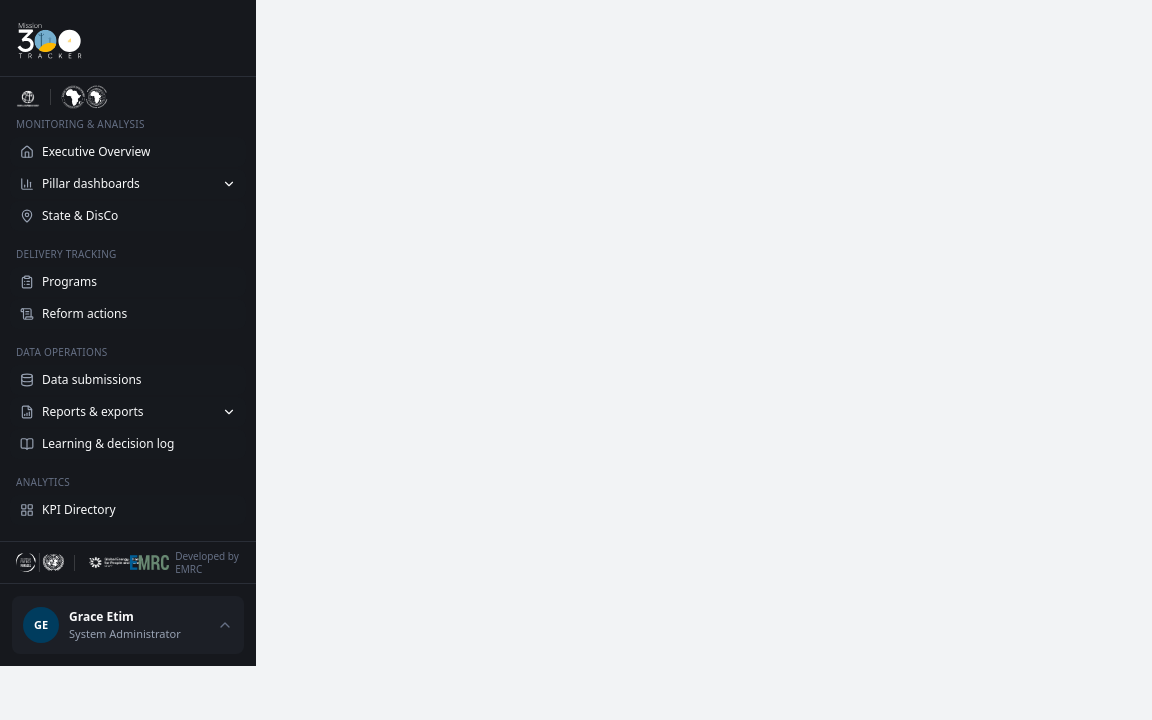
Test case: Sidebar › opens account actions, profile editing and the help centre
Step 1. Click the button with aria-label "Open user menu" → (128, 625), box 12,596 -> 244,654
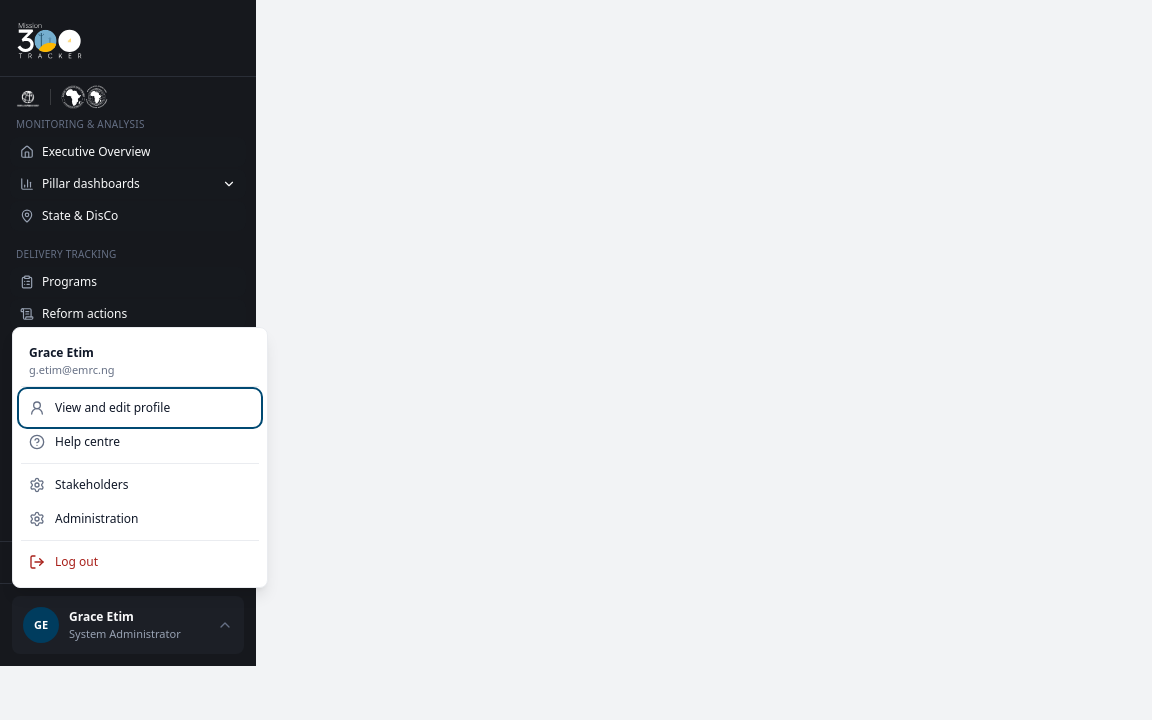
expect the button "View and edit profile" is shown: met
expect the button "Help centre" is shown: met, box 21,425 -> 259,459
expect the button "Log out" is shown: met, box 21,545 -> 259,579
Step 2. Click the button "View and edit profile" → (140, 408), box 21,391 -> 259,425
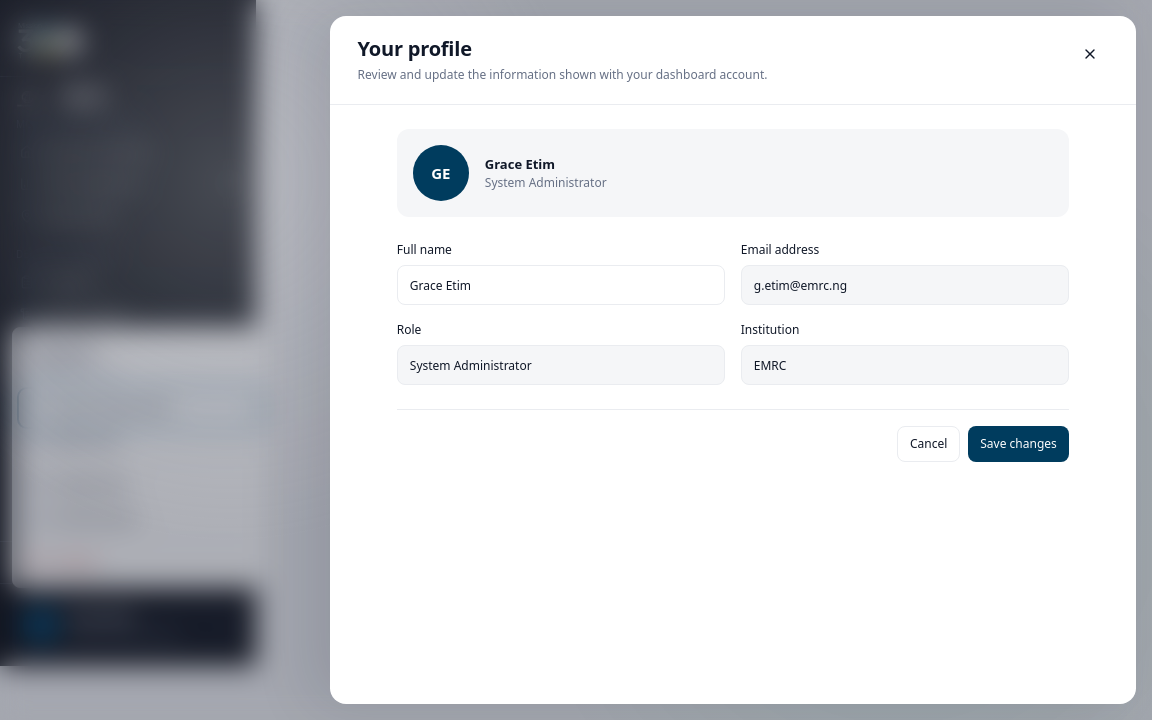
expect the dialog "Your profile" is shown: met
expect the field labelled "Full name" holds "Grace Etim": met, box 397,265 -> 725,305
